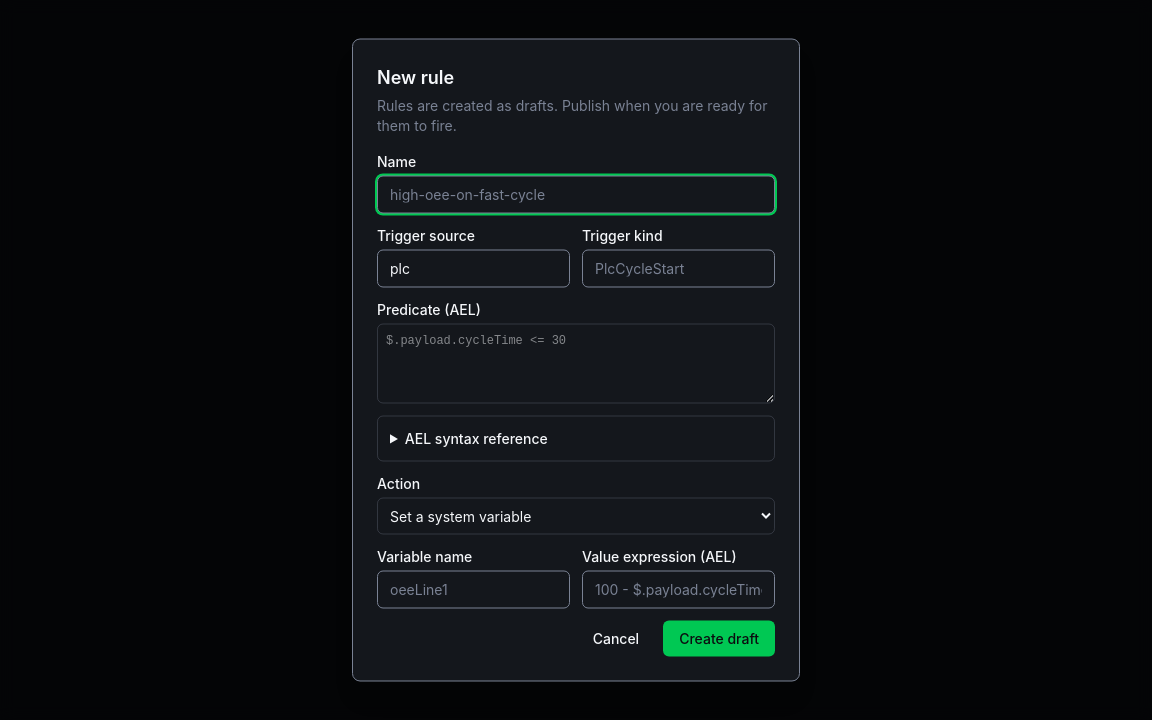
Scenario: RuleDialog › Swaps to the HighlightOverlay fields when the action changes
Select "Highlight an overlay" in the dropdown labelled "Action". click: (576, 516)
box: [377,498,775,534]
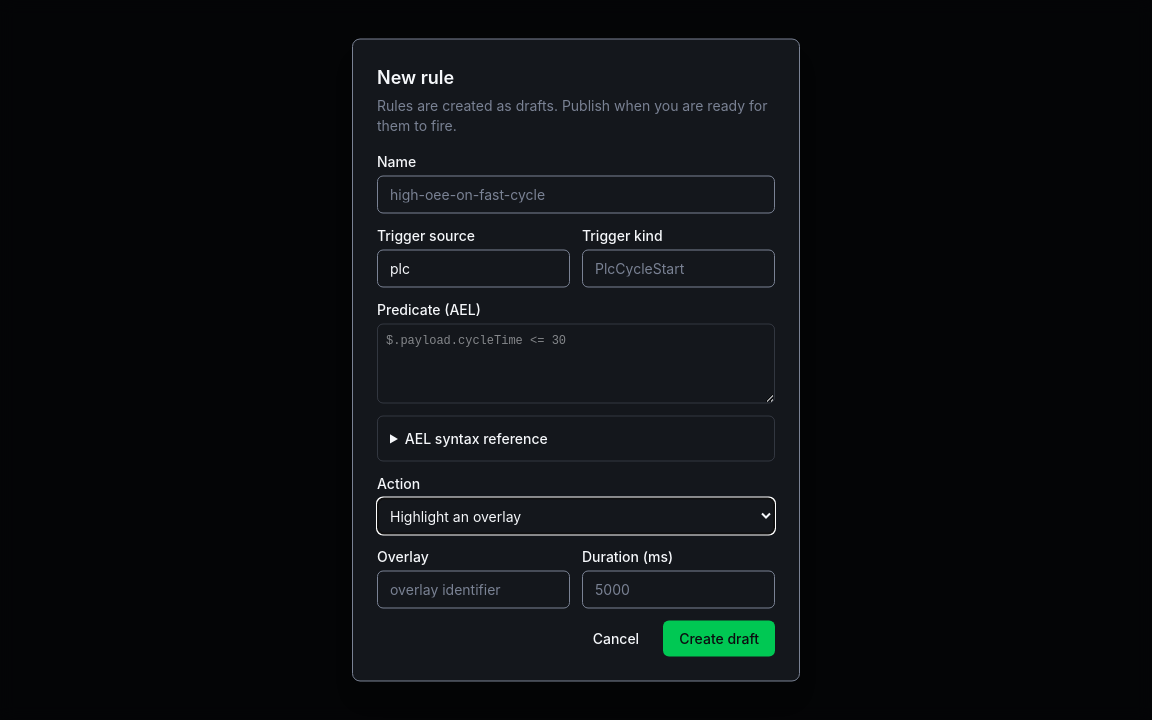
Check: the number field labelled "Duration (ms)" is shown, box [582,570,775,608]
Check: the label labelled "Variable name" is gone
